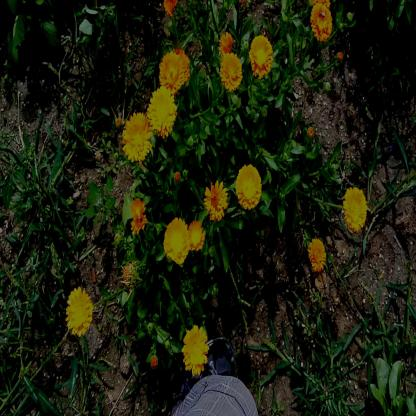marigold: (122, 112, 152, 160), (148, 87, 176, 135), (183, 326, 208, 375), (66, 290, 91, 336), (159, 52, 187, 93), (164, 217, 188, 264), (237, 163, 261, 208), (344, 188, 367, 230), (204, 180, 228, 218), (220, 53, 242, 92), (250, 35, 272, 74), (311, 2, 333, 40), (130, 196, 148, 230), (308, 240, 326, 272), (186, 222, 204, 254)
